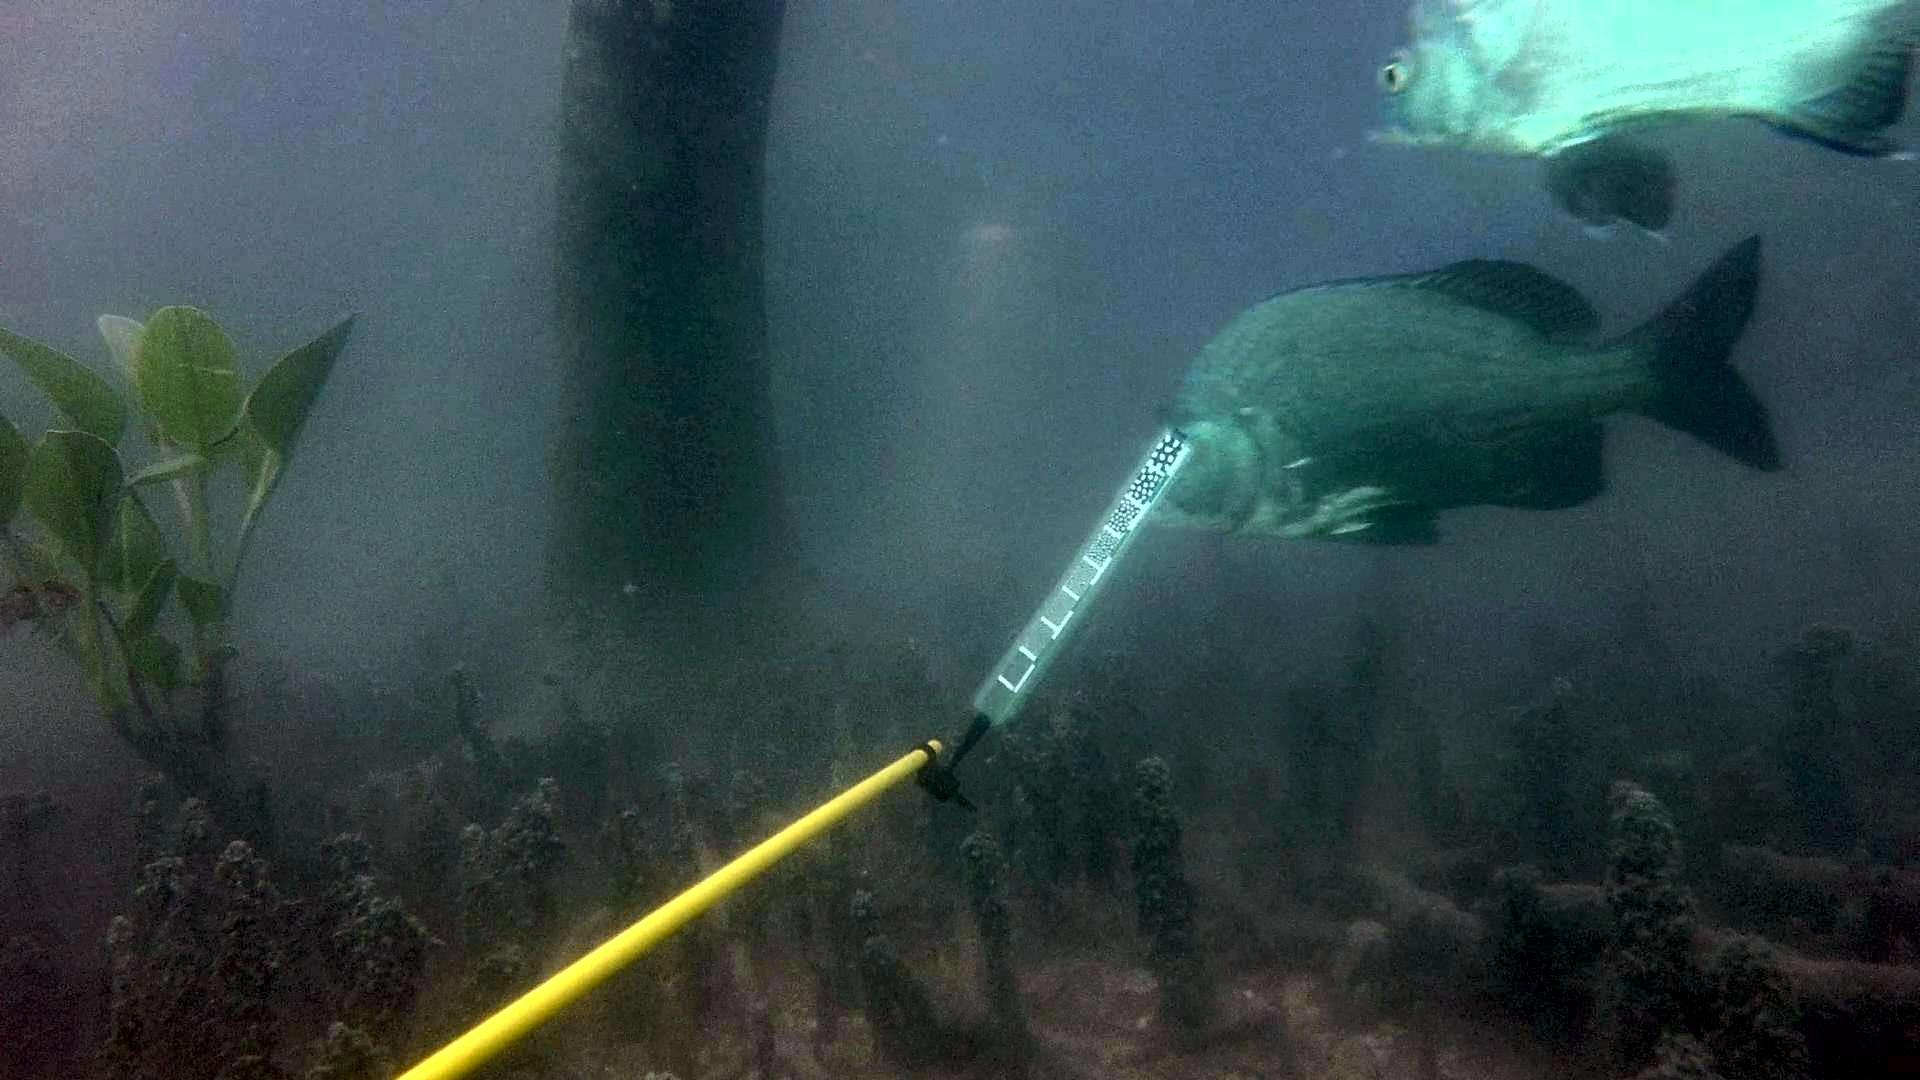acanthopagrus palmaris: (1120, 220, 1818, 557), (1340, 0, 1920, 250)
